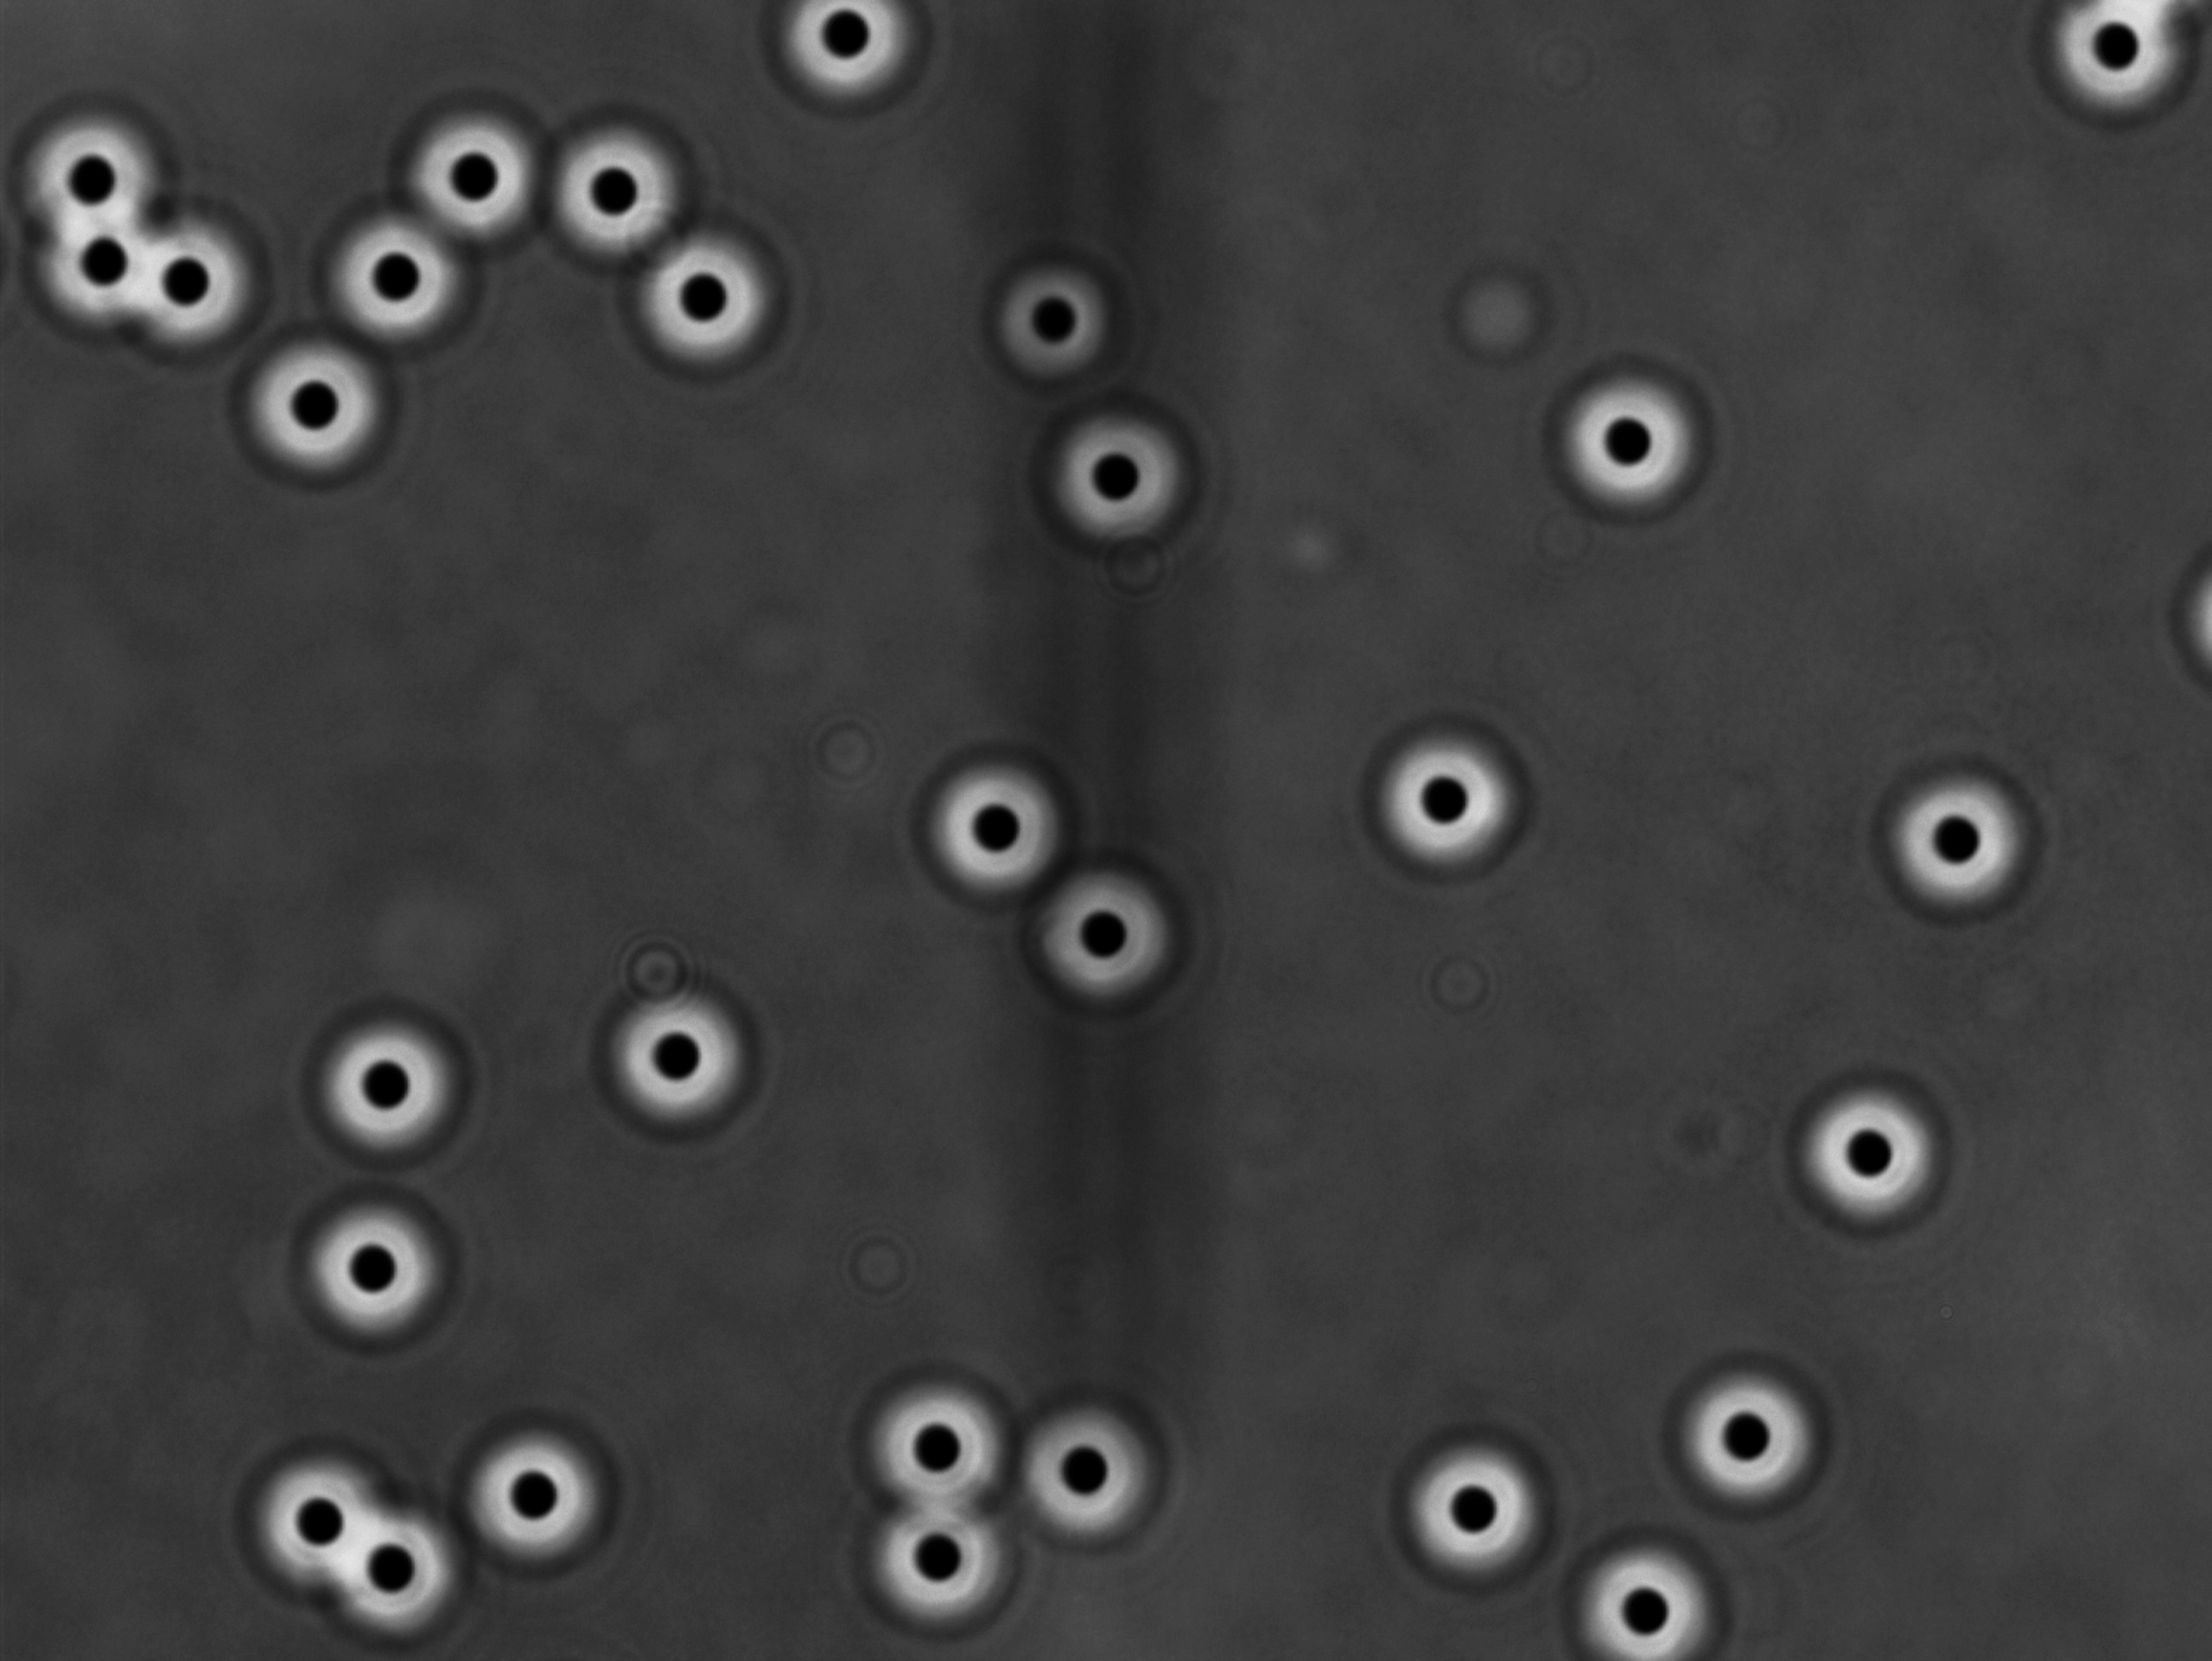depth:-40: (1772, 1064, 1973, 1254), (1519, 345, 1708, 534), (293, 1181, 488, 1361), (1858, 754, 2053, 932), (1355, 710, 1547, 883), (293, 993, 471, 1174), (891, 743, 1080, 907), (1027, 394, 1207, 564), (1387, 1424, 1568, 1586), (232, 335, 410, 499), (1661, 1359, 1839, 1520), (595, 982, 769, 1143), (850, 1494, 1026, 1647), (461, 1403, 618, 1572), (314, 197, 471, 361), (1015, 851, 1174, 1010), (537, 106, 689, 270), (1017, 1389, 1169, 1553), (853, 1363, 1014, 1514), (242, 1439, 399, 1586), (635, 239, 790, 384), (384, 92, 536, 230), (326, 1502, 473, 1642), (1553, 1546, 1727, 1661)
